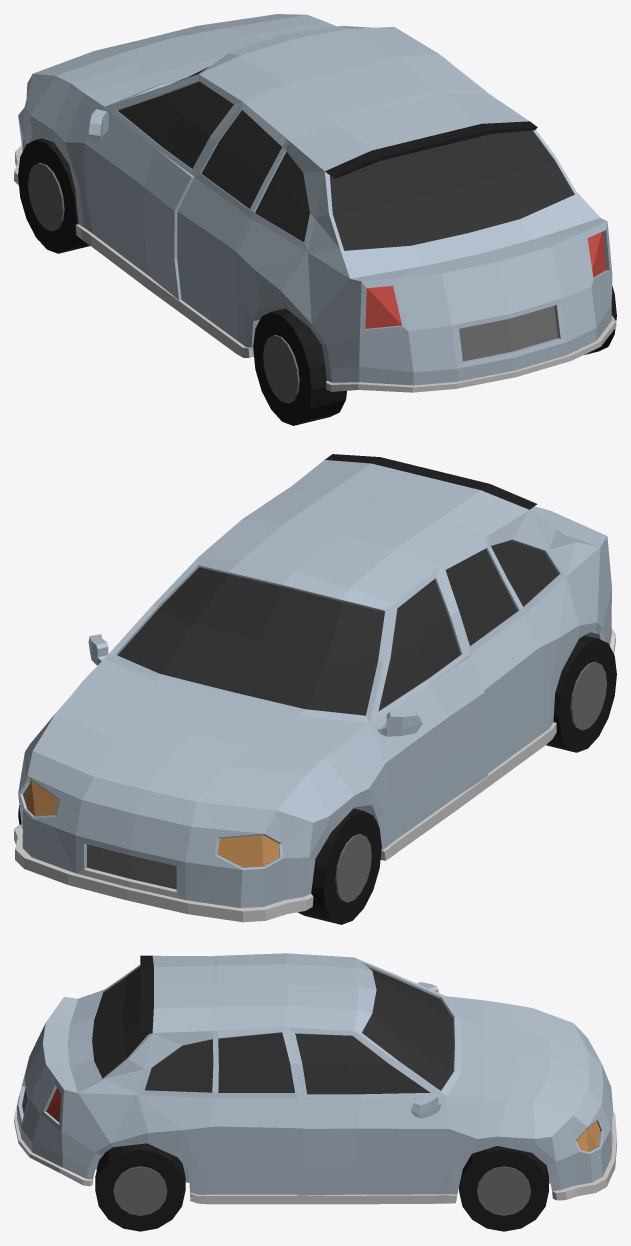
The model's file is hatchback.glb.
3 renders of one model, top to bottom at view 1: azimuth 30°, elevation 25°; view 2: azimuth 150°, elevation 25°; view 3: azimuth 270°, elevation 25°, orthographic. The views are drawn at different scales.
Visible parts, largest first — view 1: Body, Wheel_RL, Wheel_FL; view 2: Body, Wheel_FL, Wheel_RL; view 3: Body, Wheel_RR, Wheel_FR.
Boxes of the visible parts, <box> form: Body: <box>14,14,616,392</box>; Wheel_RL: <box>253,308,346,425</box>; Wheel_FL: <box>18,138,89,253</box>; Body: <box>14,454,615,922</box>; Wheel_FL: <box>298,808,381,924</box>; Wheel_RL: <box>546,635,616,752</box>; Body: <box>14,953,616,1204</box>; Wheel_RR: <box>95,1143,185,1231</box>; Wheel_FR: <box>459,1146,548,1231</box>.
Size of the model in its own units: 1.98 by 1.38 by 4.
